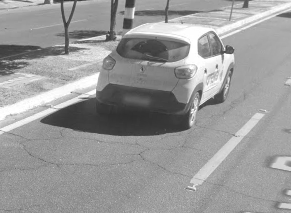car: (93, 4, 238, 141)
